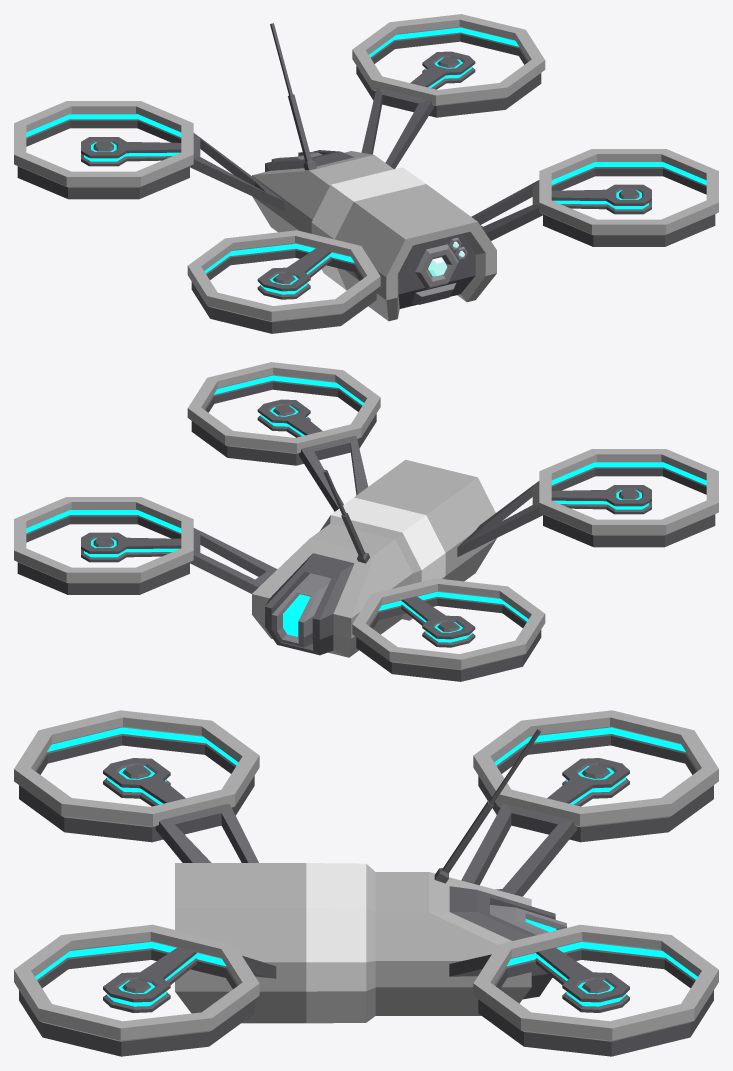
Rendered from Drone_White.glb.
3 renders of one model, top to bottom at view 1: azimuth 30°, elevation 25°; view 2: azimuth 150°, elevation 25°; view 3: azimuth 270°, elevation 25°, orthographic. The views are drawn at different scales.
Visible parts, largest first — view 1: default; view 2: default; view 3: default.
Part boxes in pixels (x1,y1,x2,y2): default: (14, 14, 718, 333); default: (14, 362, 718, 681); default: (14, 710, 718, 1056).
Size of the model in its own units: 1.25 by 0.4568 by 1.17.
Materials: 1 (1 with a texture image).
